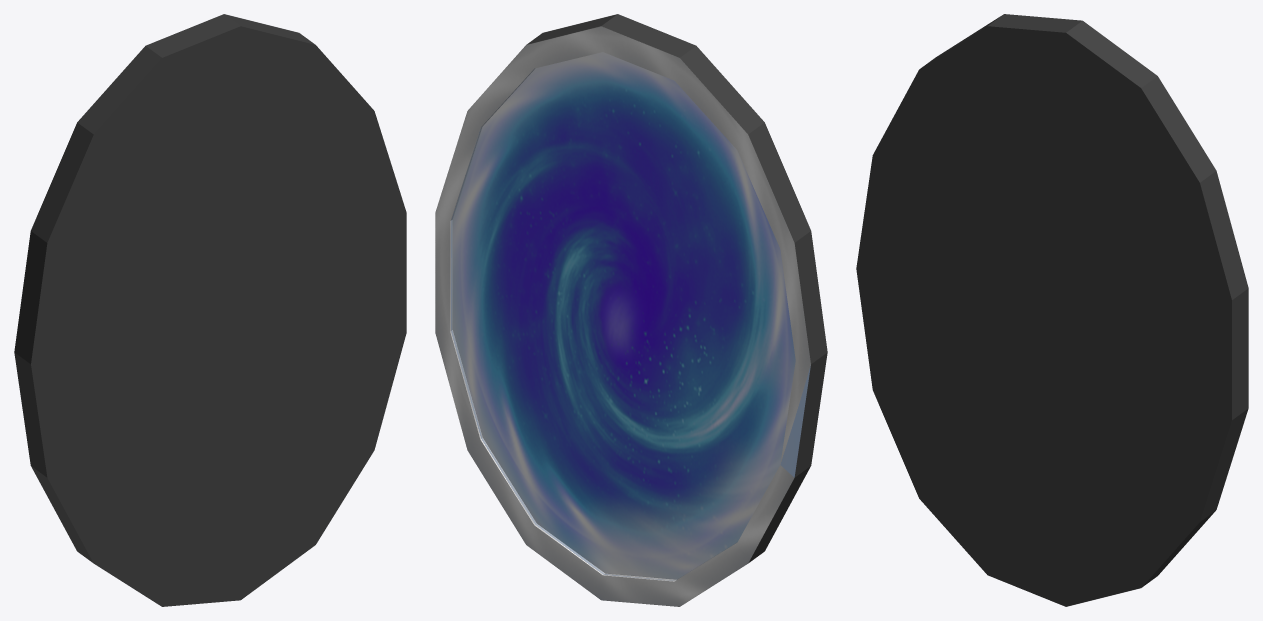
The model's file is space gate big.fbx.
3 renders of one model, left to right at view 1: azimuth 30°, elevation 25°; view 2: azimuth 150°, elevation 25°; view 3: azimuth 330°, elevation 25°, orthographic.
Parts seen in each view (by area): view 1: pCylinder1; view 2: pCylinder1; view 3: pCylinder1.
Part boxes in pixels (box(x1,y1,x2,y2)): pCylinder1: box(14, 14, 406, 606); pCylinder1: box(435, 14, 827, 606); pCylinder1: box(856, 14, 1248, 606).
Bounding box in the file's own units: 102 × 148 × 7.8.
